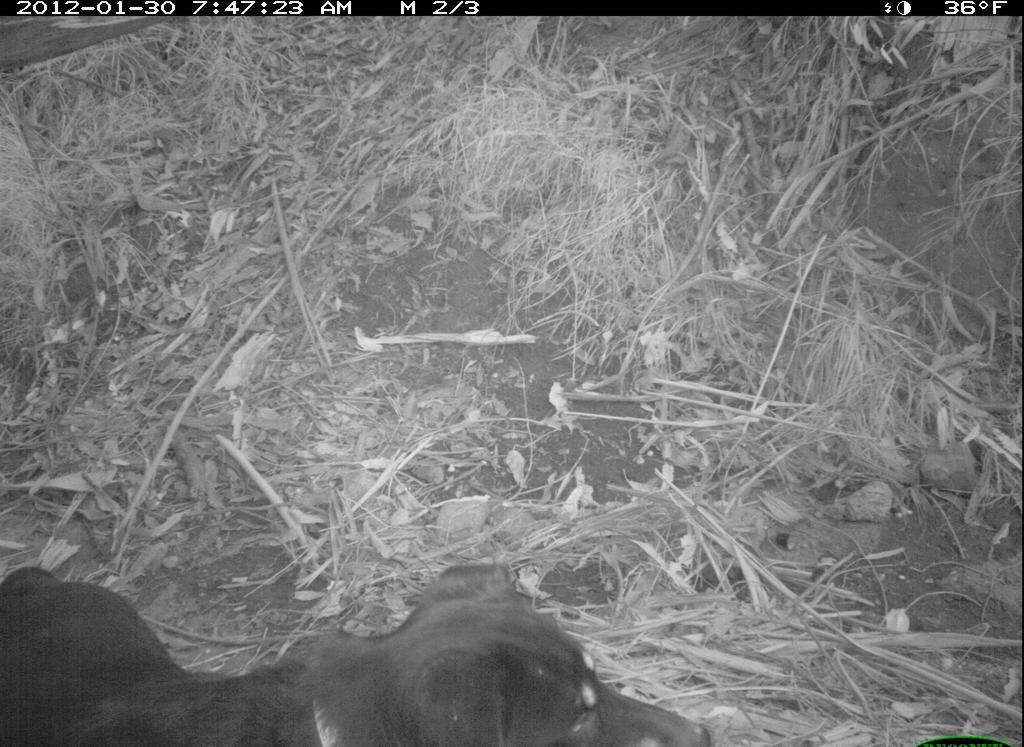dog: (1, 545, 730, 747)
